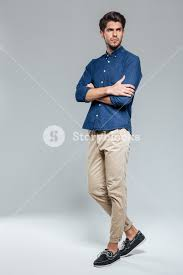standing: (67, 9, 161, 272)
